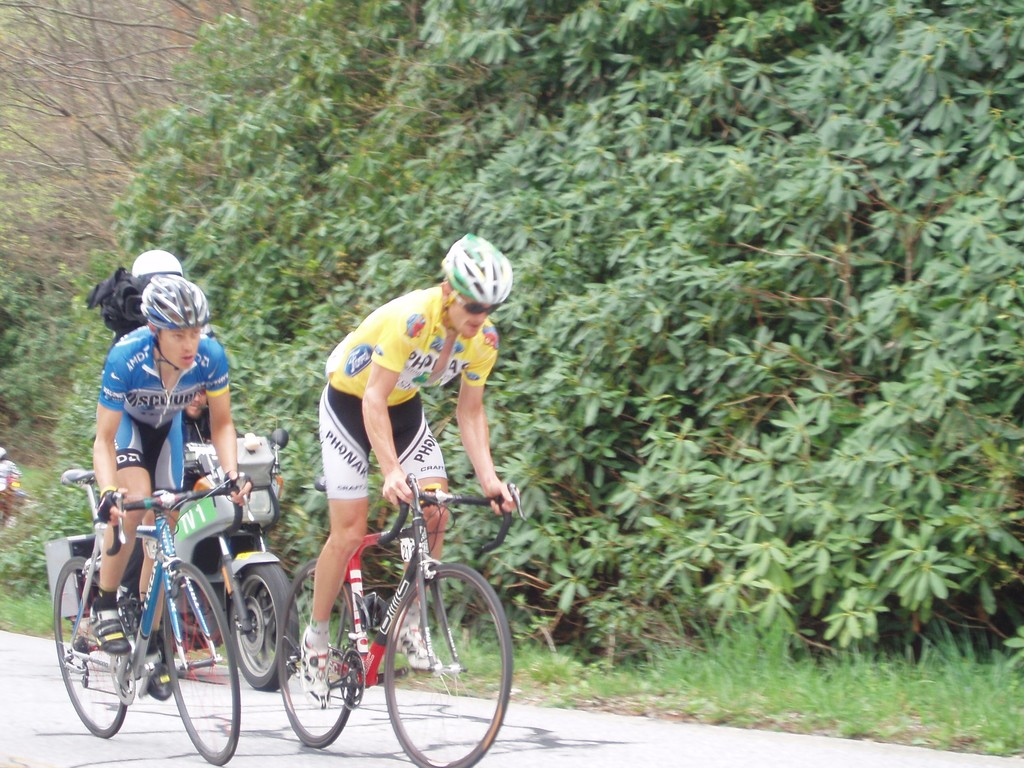bicycle: (54, 465, 252, 764), (294, 467, 506, 737)
